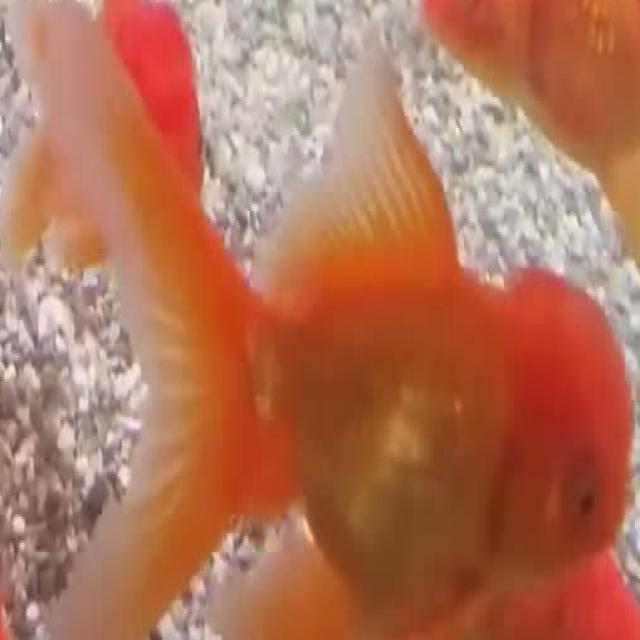fish: (0, 2, 639, 640)
